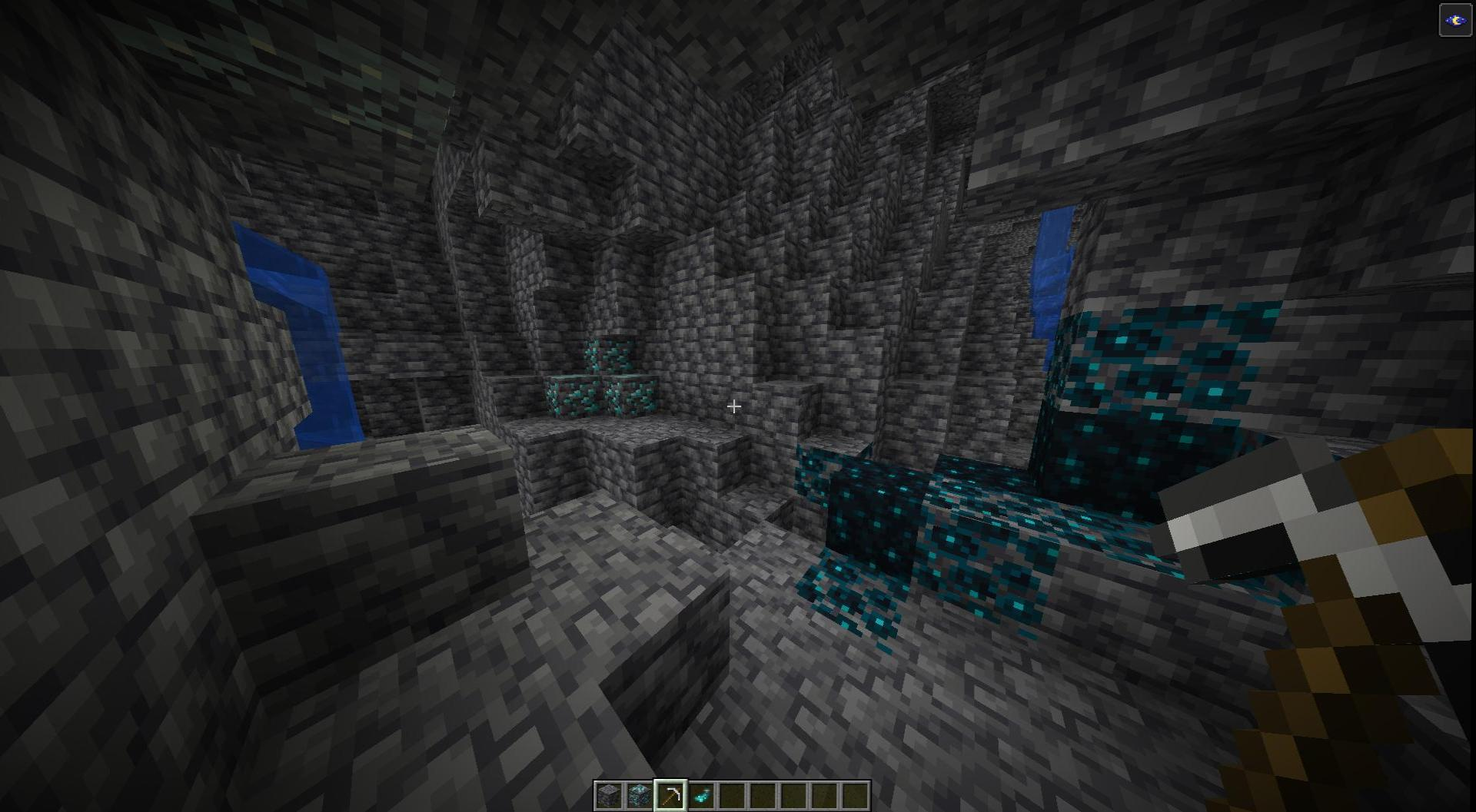diamond ore: (624, 374, 661, 414), (562, 378, 604, 410), (604, 336, 637, 375), (603, 375, 627, 413), (546, 380, 562, 415), (586, 338, 600, 371)
